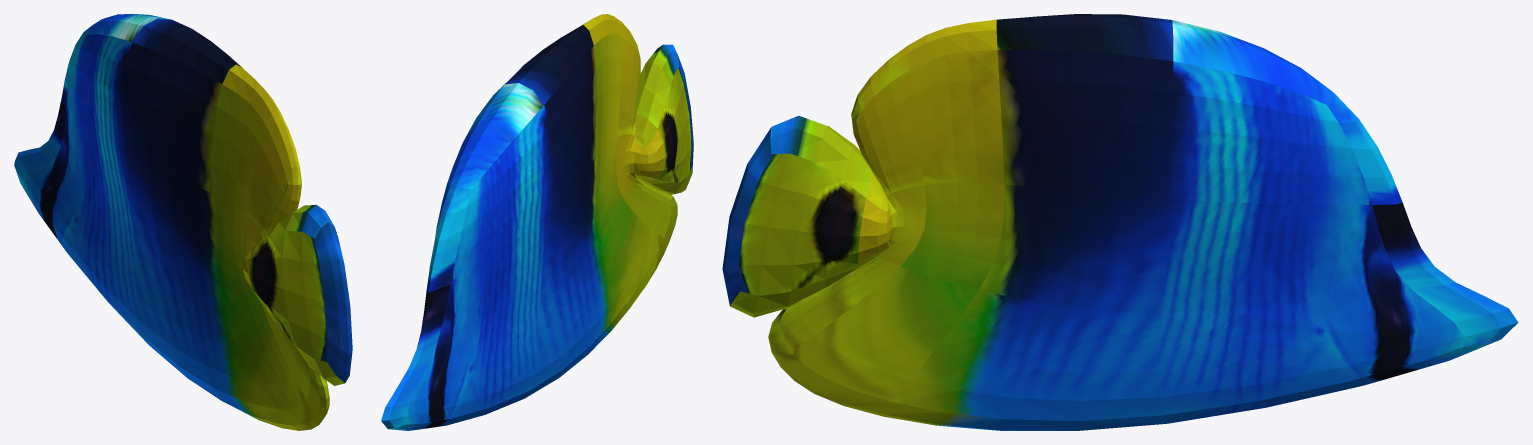
The model's file is bluefishlow.obj.
The picture shows the model from 3 angles, left to right: view 1: azimuth 30°, elevation 25°; view 2: azimuth 150°, elevation 25°; view 3: azimuth 270°, elevation 25°; orthographic projection. The views are drawn at different scales.
Parts seen in each view (by area): view 1: Cube; view 2: Cube; view 3: Cube.
Part boxes in pixels (<box>): Cube: <box>14,14,352,430</box>; Cube: <box>381,14,693,430</box>; Cube: <box>722,14,1518,430</box>.
Bounding box in the file's own units: 0.2259 × 1.03 × 1.78.
